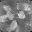people: (9, 20, 18, 30), (17, 11, 26, 19), (6, 11, 14, 20), (0, 16, 8, 23), (3, 5, 11, 12)
